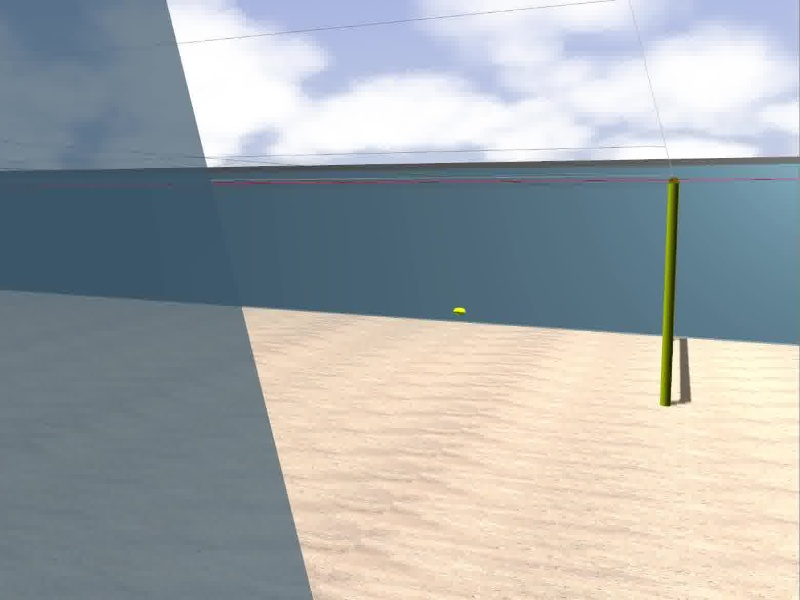gate: (655, 174, 698, 411)
